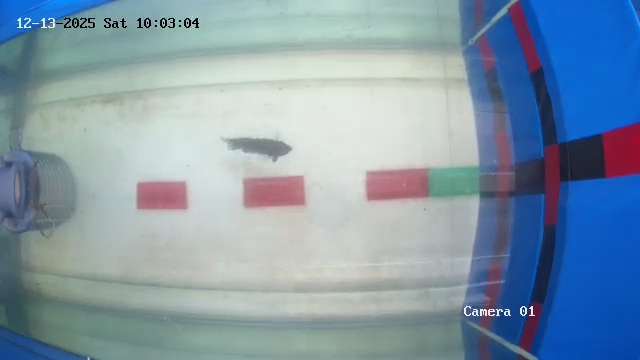fish: (217, 129, 295, 165)
